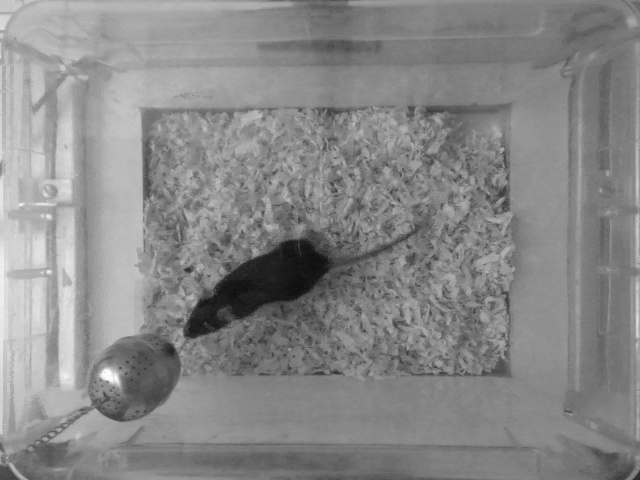mice: (183, 223, 421, 340)
